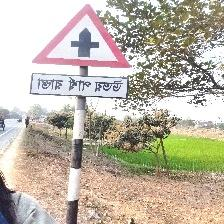Crossroad: (30, 3, 133, 101)
